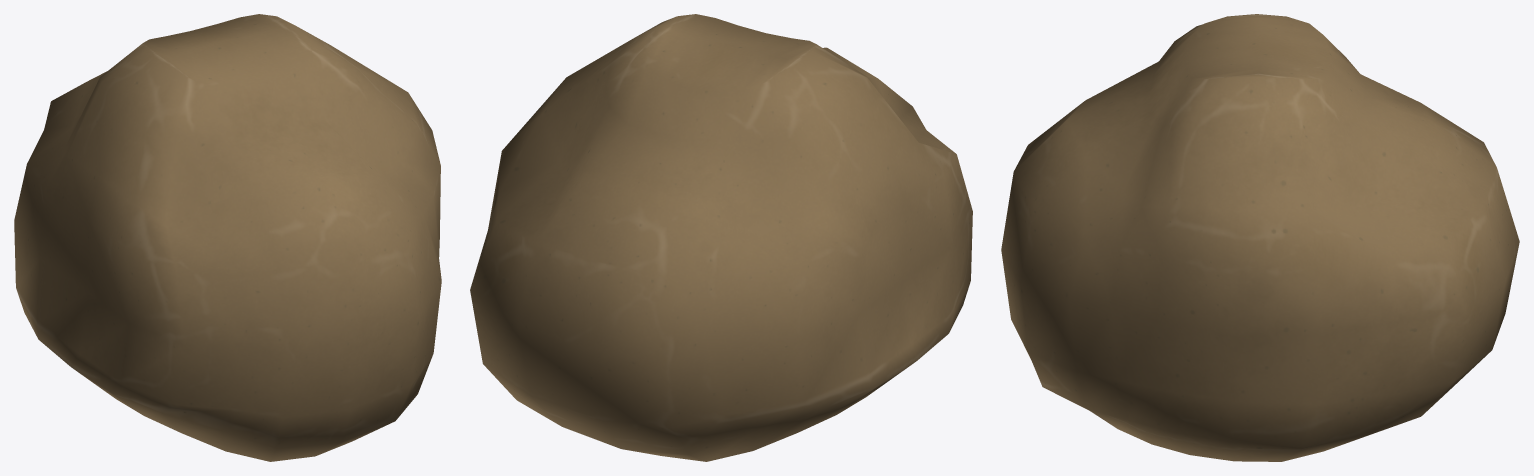
File: Rock.FBX
The picture shows the model from 3 angles, left to right: view 1: azimuth 30°, elevation 25°; view 2: azimuth 150°, elevation 25°; view 3: azimuth 270°, elevation 25°; orthographic projection. The views are drawn at different scales.
Parts seen in each view (by area): view 1: Rock; view 2: Rock; view 3: Rock.
Part boxes in pixels (box(x1,y1,x2,y2)): Rock: box(14, 14, 441, 461); Rock: box(470, 14, 972, 461); Rock: box(1001, 14, 1519, 461).
Bounding box in the file's own units: 15.38 × 15.42 × 19.26.
Materials: 1 (1 with a texture image).
